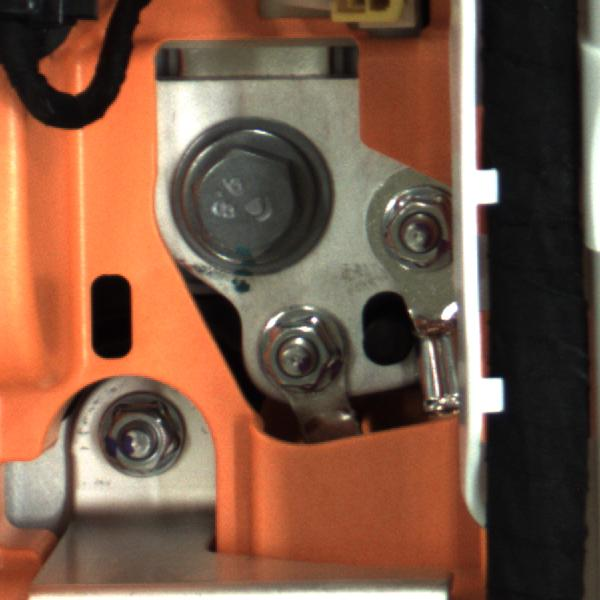nut_b: (153, 108, 342, 277)
screw_s: (247, 305, 348, 399), (98, 397, 204, 485), (363, 189, 455, 274)
